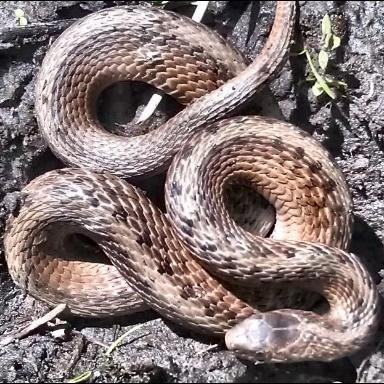snake: (3, 7, 384, 368)
